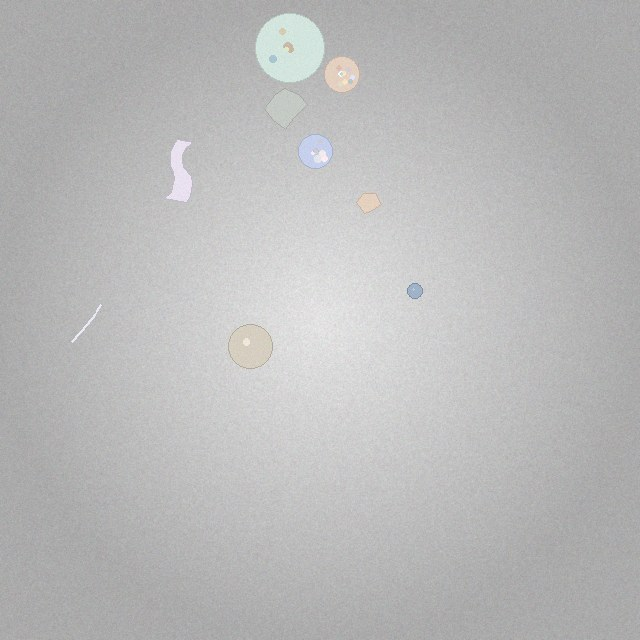fiber: (69, 303, 103, 344)
film: (164, 139, 193, 203)
foam: (255, 14, 324, 83), (324, 57, 360, 92), (299, 135, 332, 168)
fragment: (265, 88, 307, 130), (357, 194, 382, 213)
pellet: (229, 324, 273, 368), (408, 283, 423, 298)
